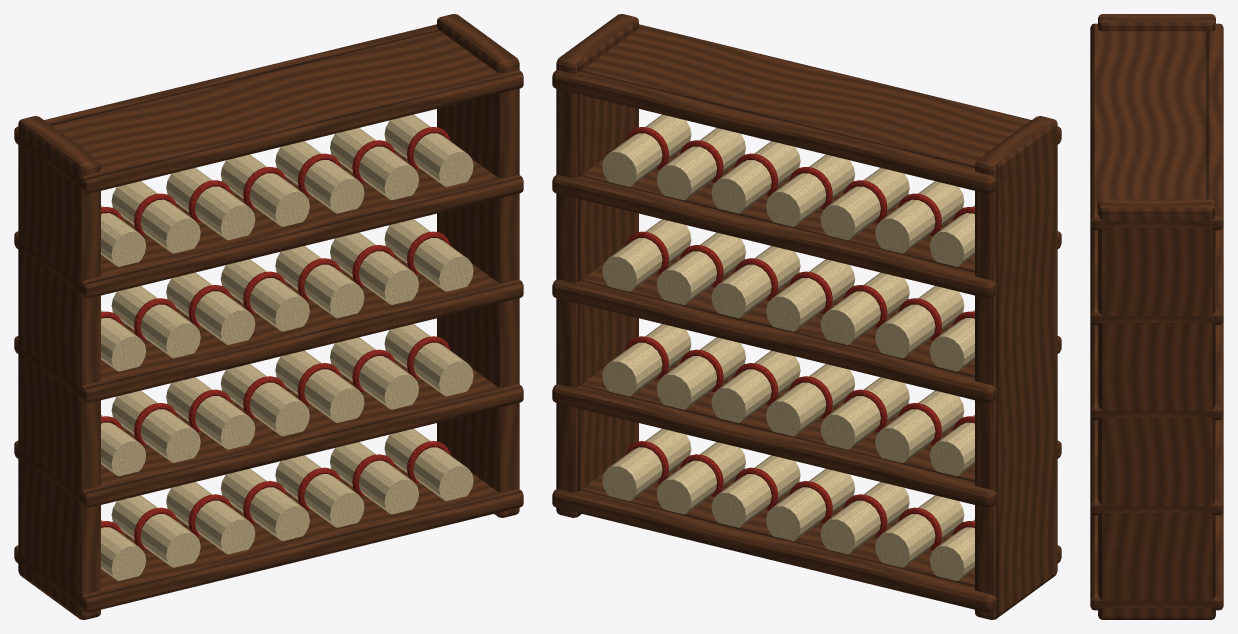
Rendered from scroll_rack.glb.
3 renders of one model, left to right at view 1: azimuth 30°, elevation 25°; view 2: azimuth 150°, elevation 25°; view 3: azimuth 270°, elevation 25°, orthographic. The views are drawn at different scales.
Parts seen in each view (by area): view 1: scroll_rack_Walnut, scroll_rack_Paper, scroll_rack_Brocade; view 2: scroll_rack_Walnut, scroll_rack_Paper, scroll_rack_Brocade; view 3: scroll_rack_Walnut.
Part boxes in pixels (<box>): scroll_rack_Walnut: <box>14,14,523,619</box>; scroll_rack_Paper: <box>101,114,473,580</box>; scroll_rack_Brocade: <box>101,127,450,549</box>; scroll_rack_Walnut: <box>552,14,1061,619</box>; scroll_rack_Paper: <box>602,114,974,580</box>; scroll_rack_Brocade: <box>625,127,974,549</box>; scroll_rack_Walnut: <box>1090,14,1223,619</box>.
Bounding box in the file's own units: 2.42 × 2.4 × 0.7.
3 materials, 3 textured.
